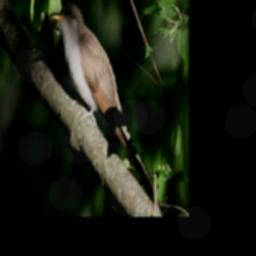Cuckoo: (50, 2, 159, 206)
